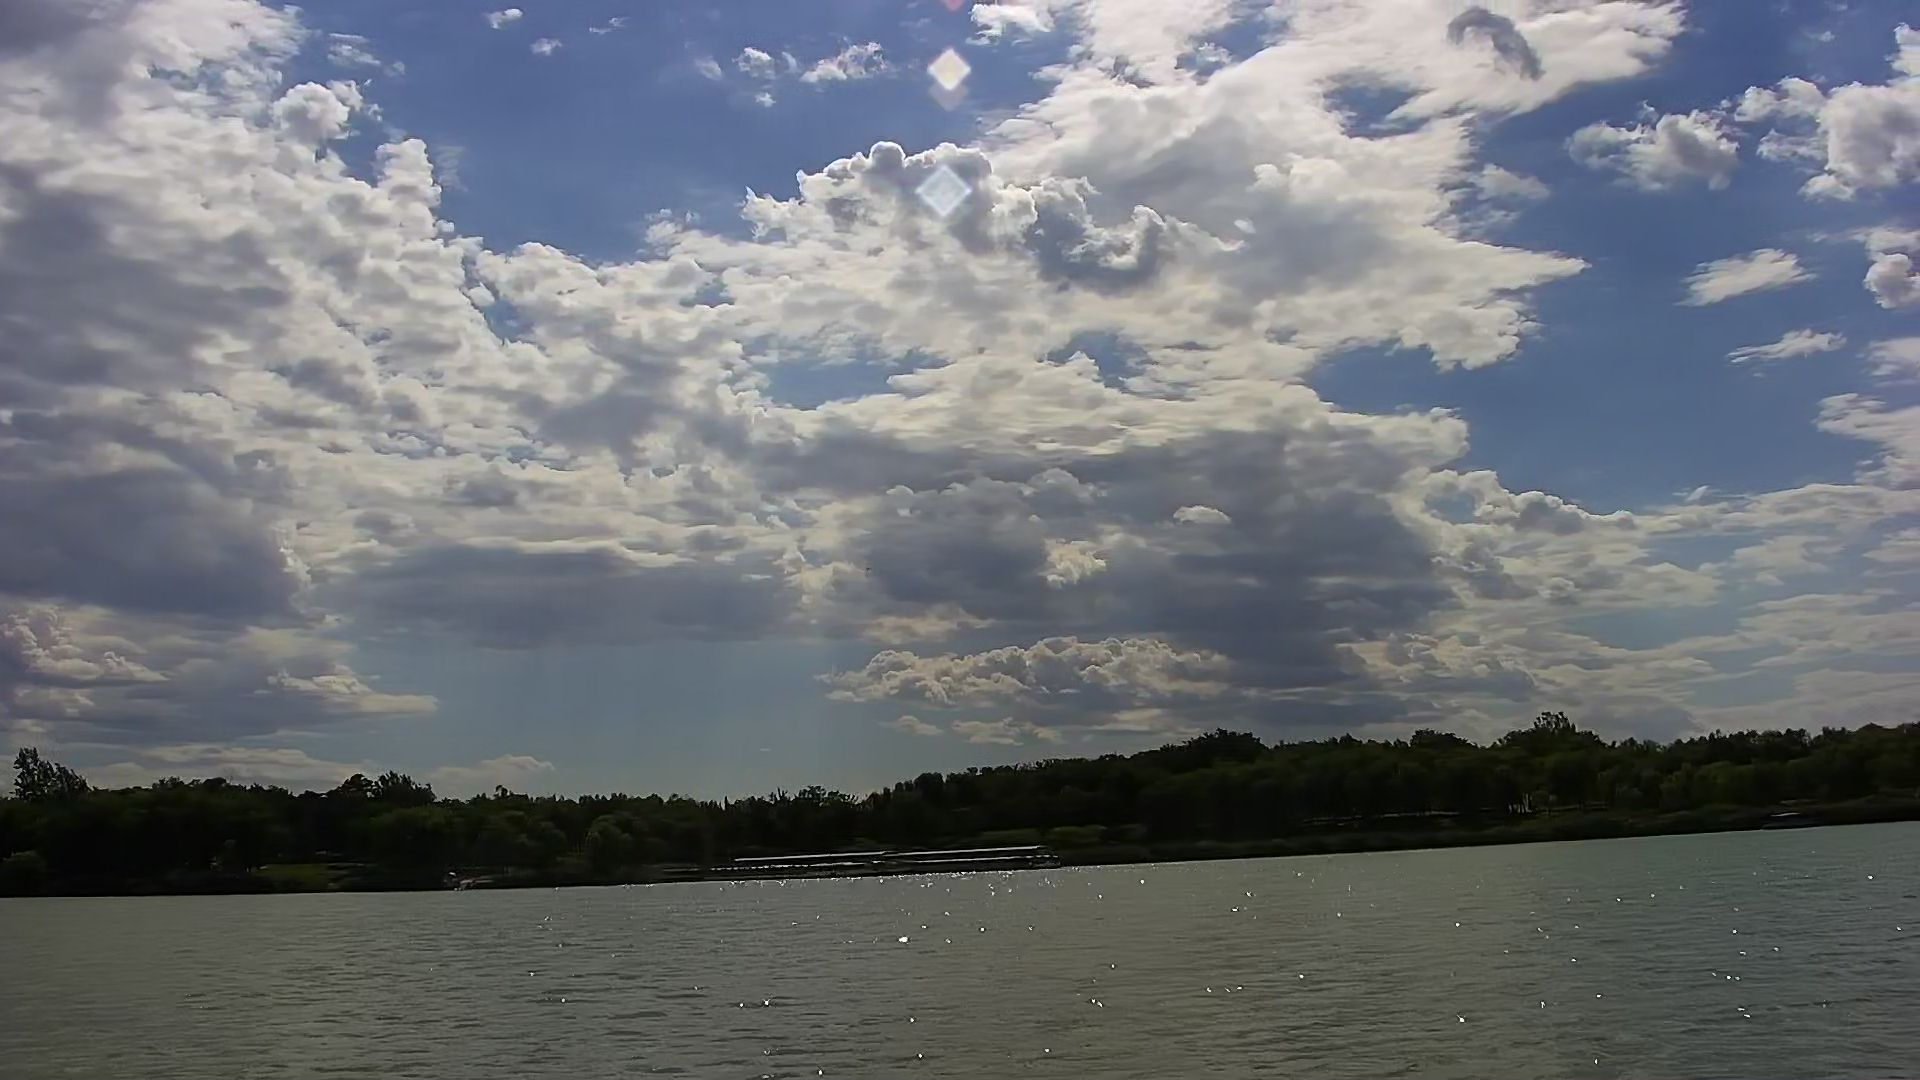harbor: (725, 840, 1063, 886)
